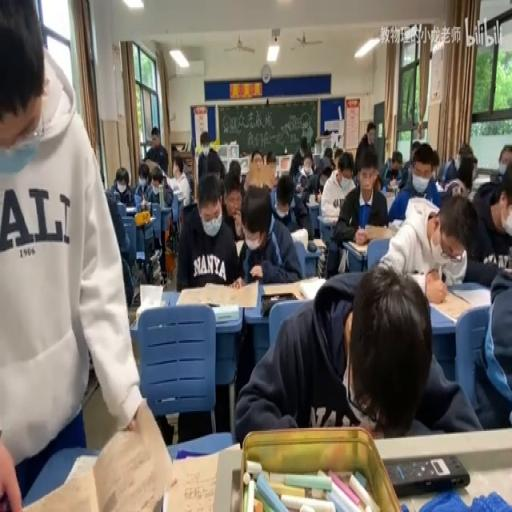calculator: (91, 402, 169, 510), (160, 442, 238, 511), (16, 455, 100, 511), (426, 283, 481, 323), (262, 278, 322, 304), (139, 282, 166, 310), (362, 223, 395, 242), (213, 304, 239, 324), (408, 270, 427, 292), (290, 227, 307, 249), (382, 189, 398, 212), (346, 238, 366, 254), (308, 238, 327, 250), (320, 215, 338, 226), (234, 238, 244, 256), (390, 218, 403, 230), (435, 180, 446, 194), (306, 199, 320, 208), (125, 205, 136, 215)
paper: (0, 0, 147, 506), (234, 259, 476, 439), (177, 169, 244, 437), (380, 192, 470, 300), (330, 145, 388, 276), (471, 258, 512, 426), (240, 182, 302, 283), (468, 161, 512, 270), (439, 142, 478, 189), (221, 165, 244, 243), (294, 149, 322, 205), (166, 155, 192, 209), (197, 131, 223, 182), (143, 126, 169, 176), (390, 140, 416, 186), (108, 165, 134, 206), (133, 161, 155, 206), (355, 121, 376, 166), (120, 253, 135, 309), (497, 145, 512, 173), (249, 162, 266, 186), (429, 148, 440, 183), (265, 150, 277, 174), (298, 136, 310, 160), (277, 192, 290, 213), (250, 148, 263, 165), (150, 170, 162, 188), (333, 145, 343, 166), (373, 172, 382, 191), (322, 145, 332, 162), (490, 170, 502, 184), (411, 140, 421, 154), (313, 154, 320, 169), (299, 175, 307, 188)
person: (386, 454, 470, 496), (505, 266, 512, 279), (203, 301, 219, 306)
